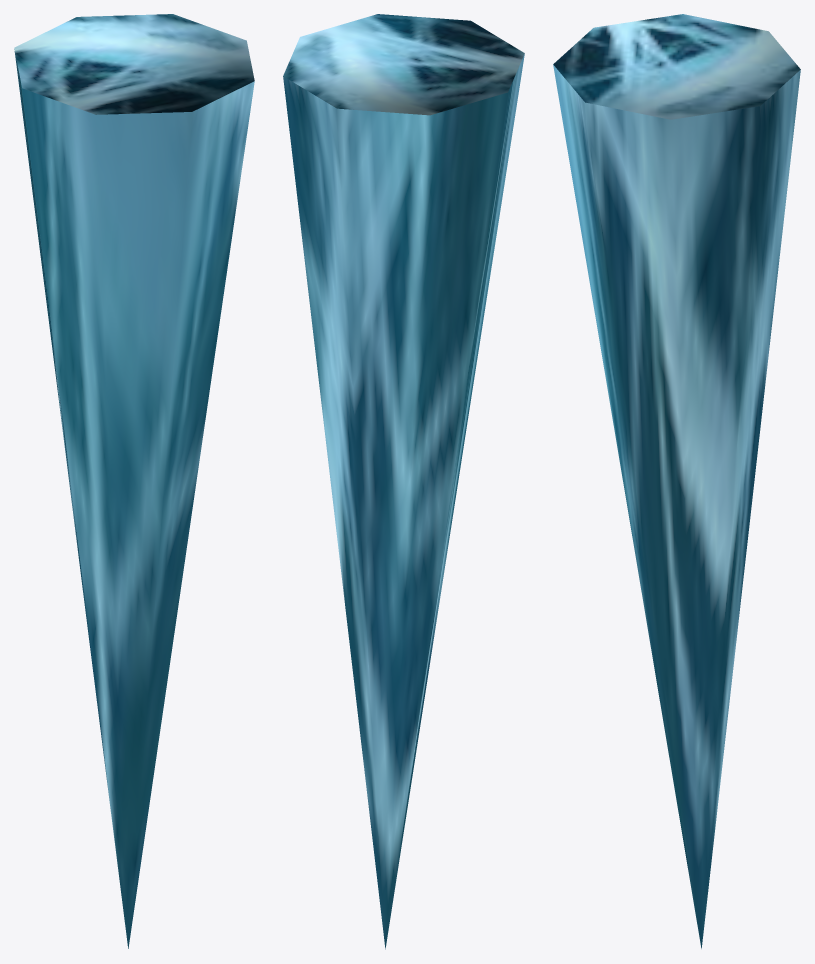
Rendered from iceonfloor2.glb.
3 renders of one model, left to right at view 1: azimuth 30°, elevation 25°; view 2: azimuth 150°, elevation 25°; view 3: azimuth 270°, elevation 25°, orthographic. The views are drawn at different scales.
Visible parts, largest first — view 1: ICEballRACK.003; view 2: ICEballRACK.003; view 3: ICEballRACK.003.
Part boxes in pixels (bbox=[...]): ICEballRACK.003: bbox=[14, 14, 254, 948]; ICEballRACK.003: bbox=[283, 14, 524, 949]; ICEballRACK.003: bbox=[553, 14, 800, 948].
Bounding box in the file's own units: 0.7228 × 2.83 × 0.7228.
Materials: 1 (1 with a texture image).
